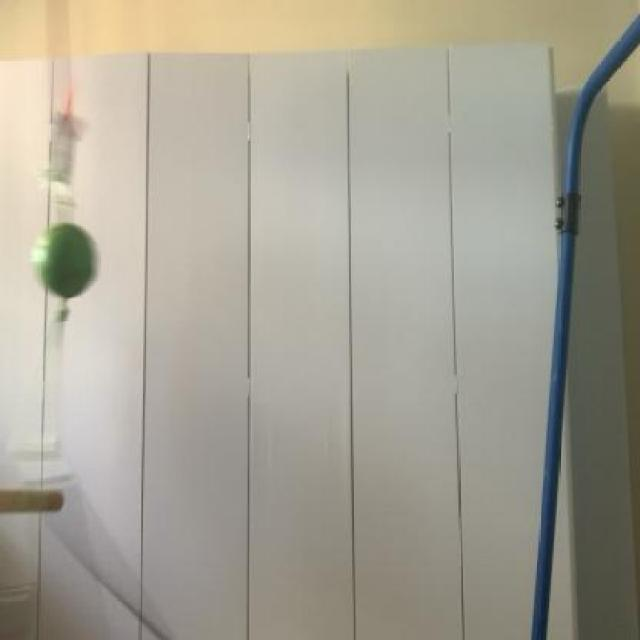baseball: (25, 212, 106, 303)
